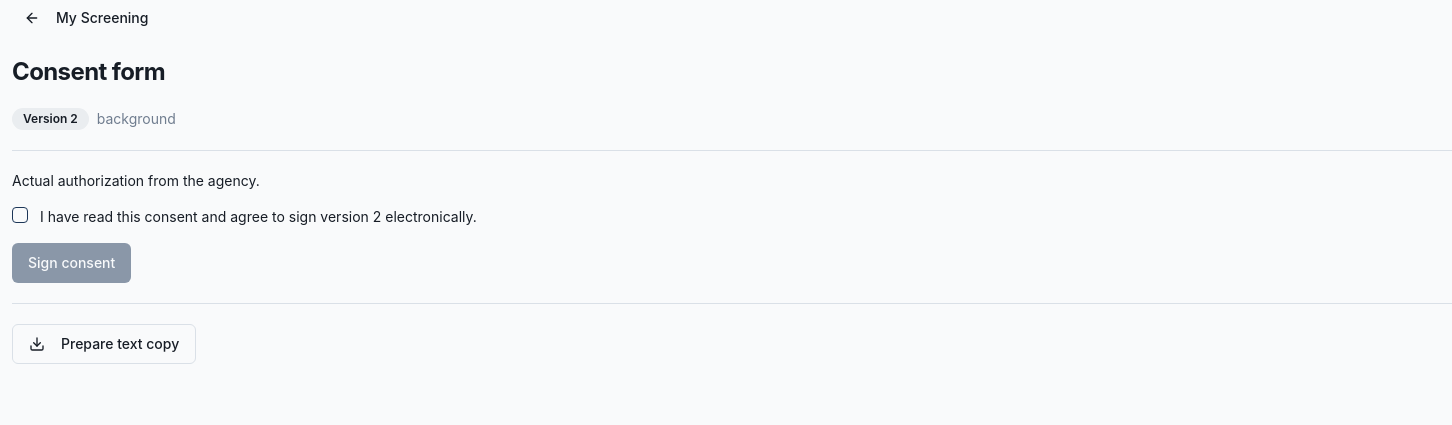
Test case: worker consent actions › does not show a signature confirmation if the server returns no signing timestamp
Check: the text "Actual authorization from the agency." is shown, box [12,172,260,189]
Click the checkbox at x=20, y=215, box [12,207,28,223]
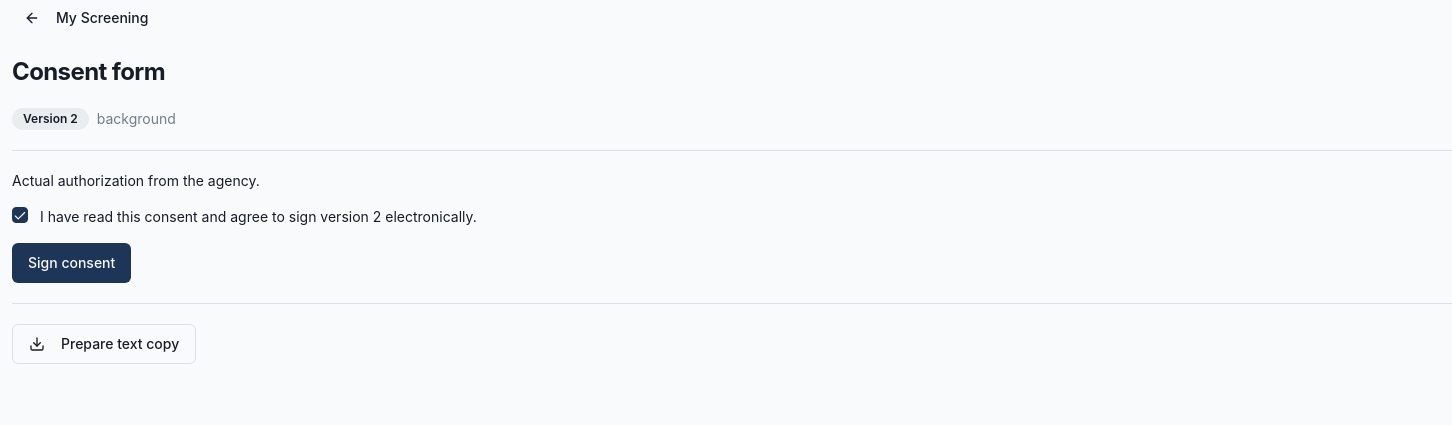
Click the button "Sign consent" at x=72, y=263, box [12,243,131,283]
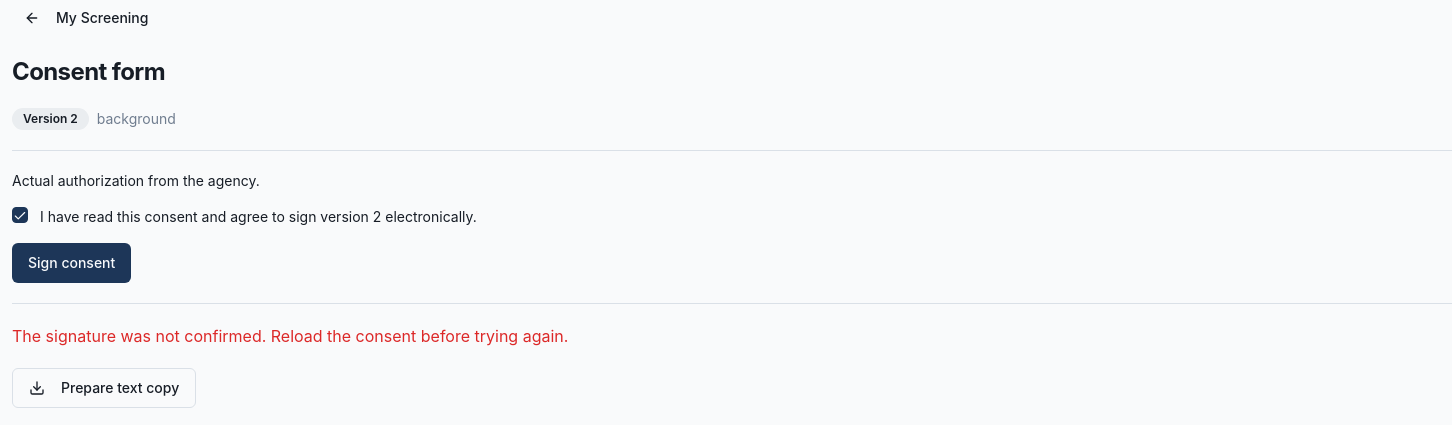
Check: the message shows "signature was not confirmed", box [12,326,568,346]
